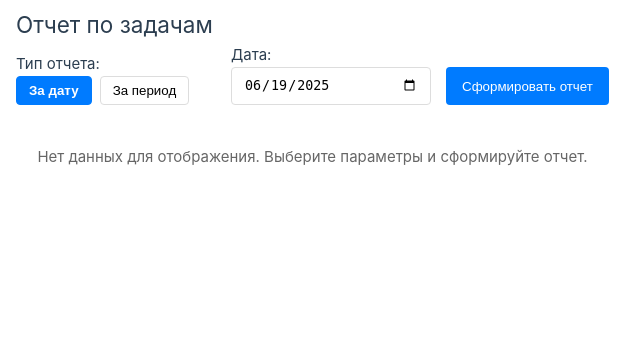
Test case: TasksReport.vue › показывает поле для ввода дней при выборе произвольного периода
// Выбираем тип отчета "period"
Step 1. Click the button with class "type-btn" showing "За период" → [144, 90], box [100,76,189,105]
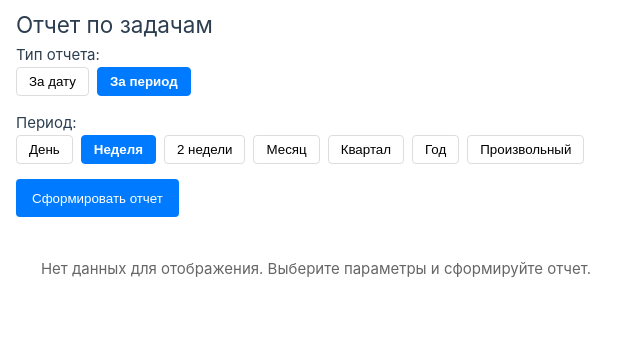
// Выбираем произвольный период (предполагая, что это последняя кнопка)
Step 2. Click the button "Произвольный" → [526, 150], box [467,135,584,164]
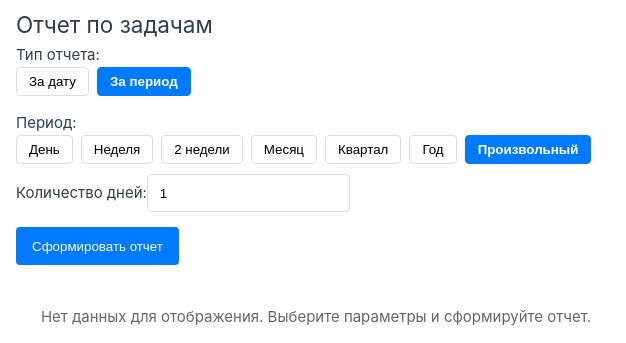
Check: the number field with id "custom-days" is shown, box [147,174,350,212]
